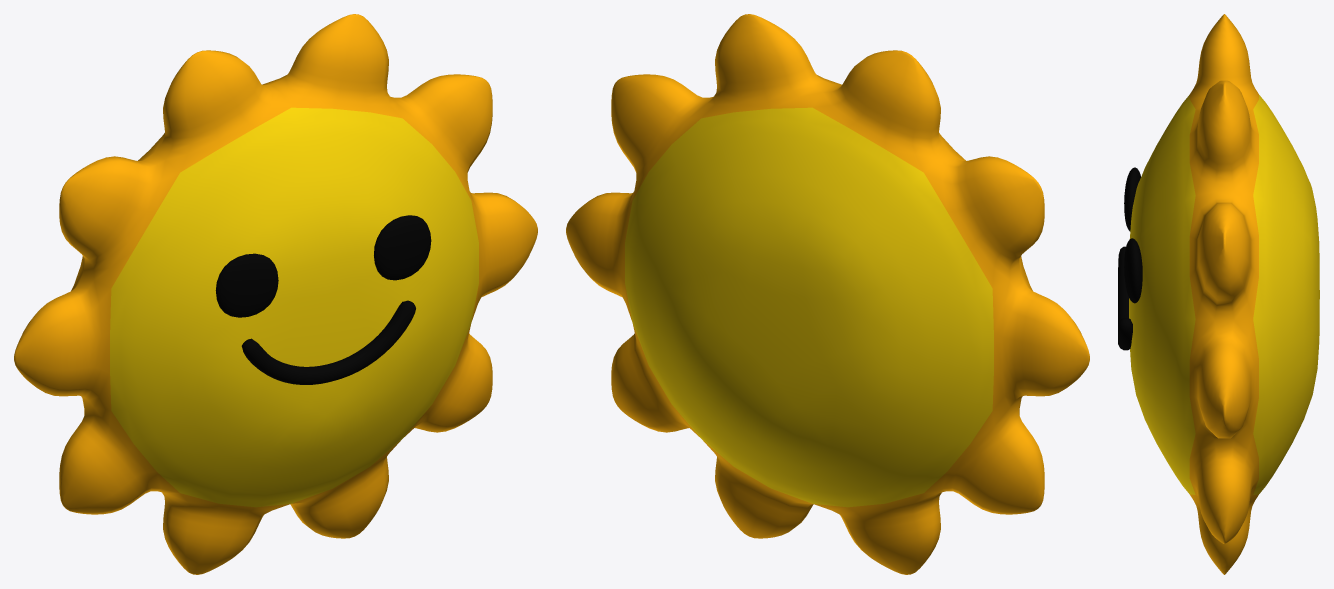
The model's file is Sun_CartoonFBX_Hipoly.fbx.
The picture shows the model from 3 angles, left to right: view 1: azimuth 30°, elevation 25°; view 2: azimuth 150°, elevation 25°; view 3: azimuth 270°, elevation 25°; orthographic projection. The views are drawn at different scales.
Parts seen in each view (by area): view 1: Empty_Mesh; view 2: Empty_Mesh; view 3: Empty_Mesh.
Part boxes in pixels (x1,y1,x2,y2): Empty_Mesh: [14, 14, 537, 574]; Empty_Mesh: [566, 14, 1089, 574]; Empty_Mesh: [1118, 14, 1319, 574].
Size of the model in its own units: 3.11 by 2.97 by 1.11.
